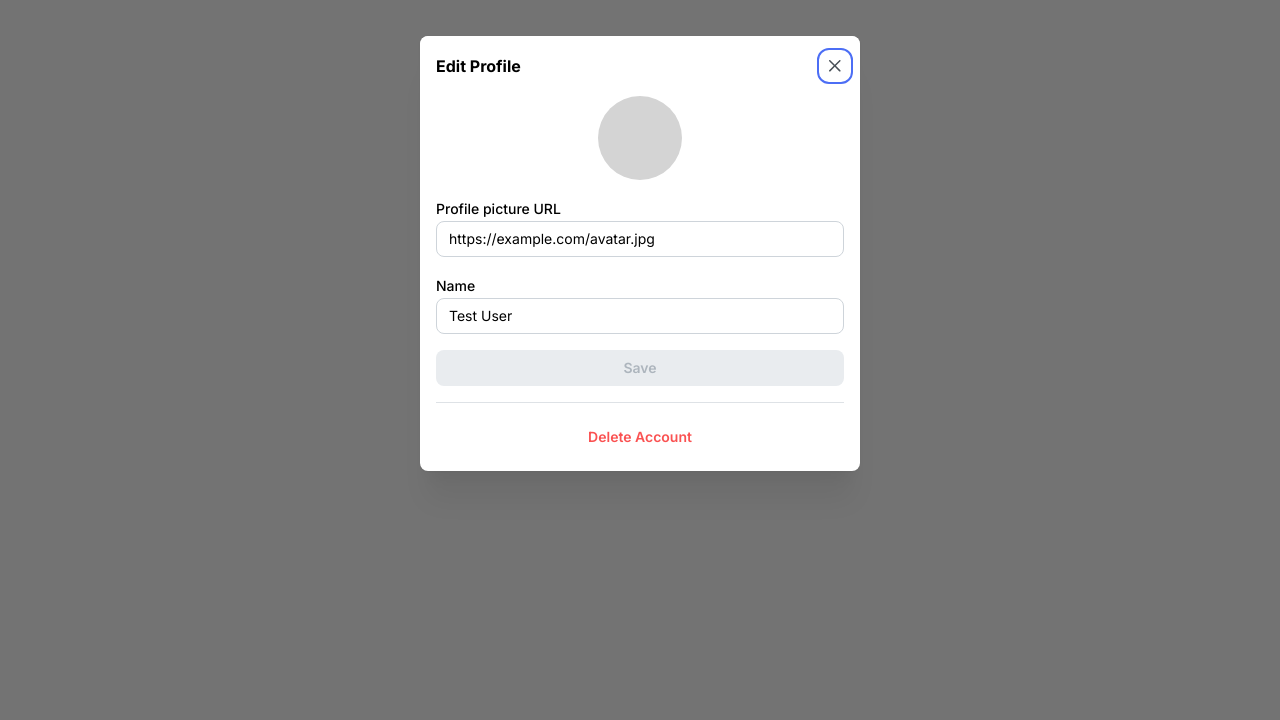
editProfileModal › shows delete account confirmation on click
This screenshot has width=1280, height=720.
Initially shows "Delete Account" button
Click the button "Delete Account". click: [640, 437]
box: 436,419 -> 844,455
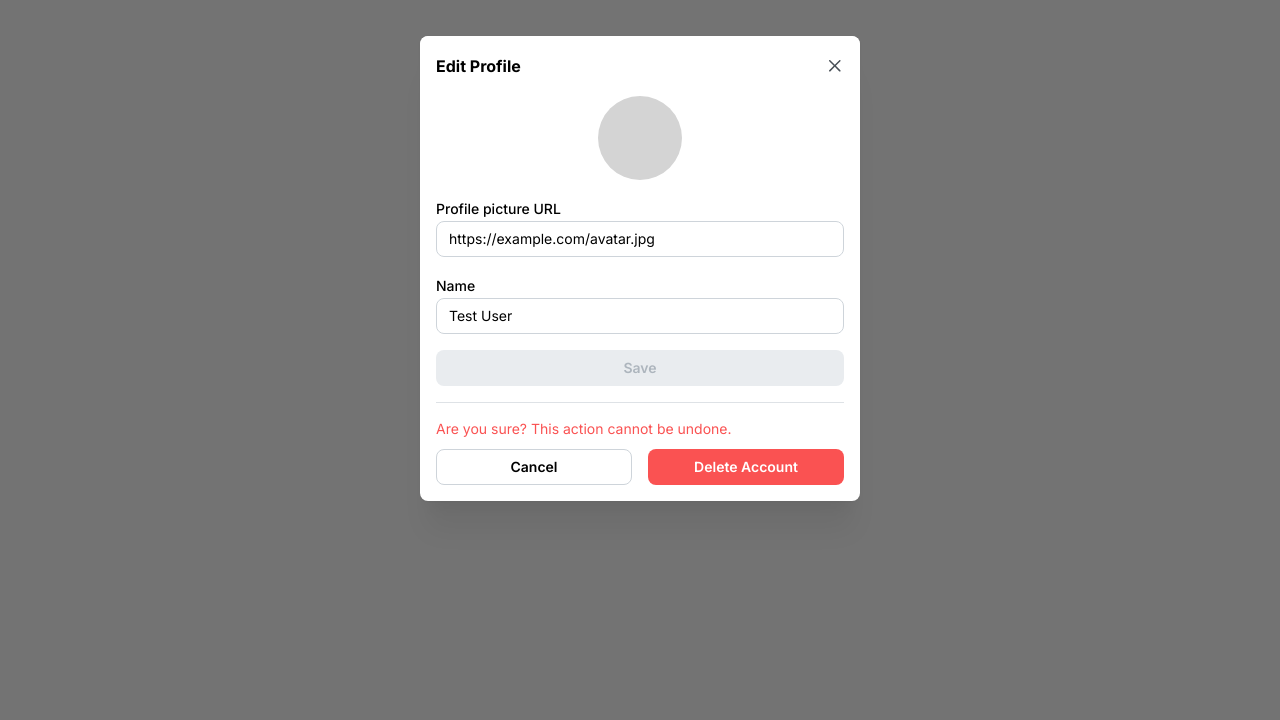
Expected: the text "Are you sure? This action cannot be undone." is shown, 436,420 -> 732,437
Expected: the button "Cancel" is shown, 510,458 -> 558,475
Expected: the number of buttons "Delete Account" is 1, 694,458 -> 798,475
